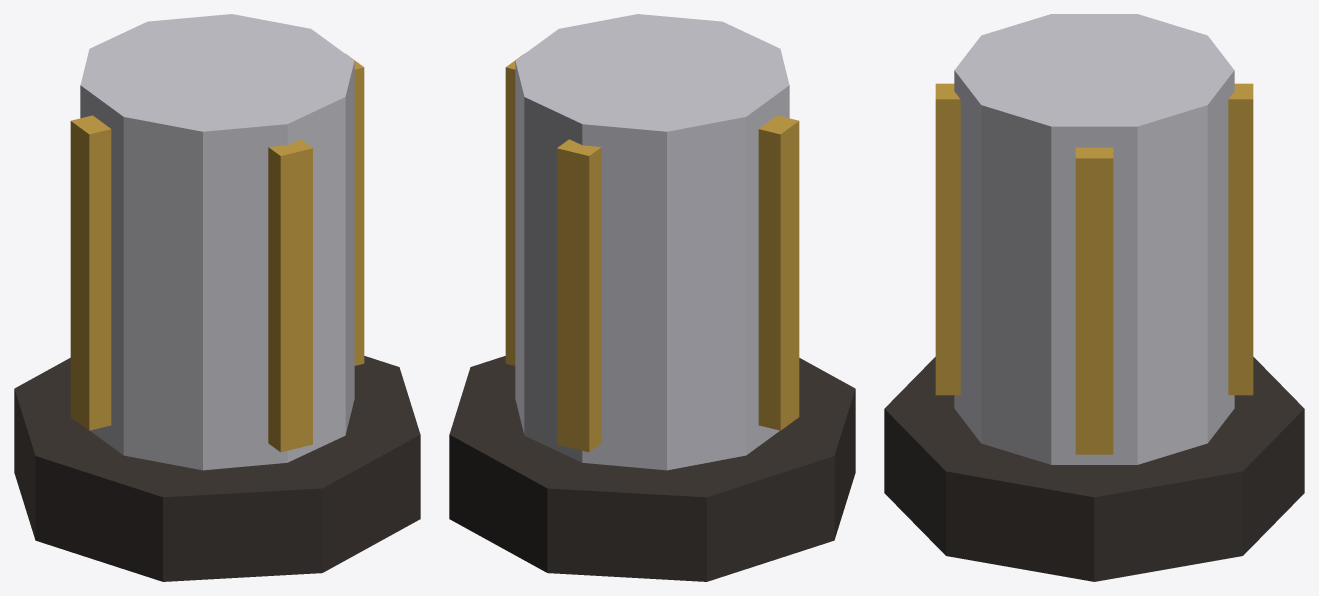
The model's file is Prop_BossCore_D.fbx.
3 views of the same model, side by side, from view 1: azimuth 30°, elevation 25°; view 2: azimuth 150°, elevation 25°; view 3: azimuth 270°, elevation 25° (orthographic).
Visible parts, largest first — view 1: Prop_BossCore_D; view 2: Prop_BossCore_D; view 3: Prop_BossCore_D.
Boxes of the visible parts, <box> form: Prop_BossCore_D: <box>14,14,420,581</box>; Prop_BossCore_D: <box>449,14,855,581</box>; Prop_BossCore_D: <box>884,14,1304,581</box>.
Bounding box in the file's own units: 0.09 × 0.1 × 0.09.
